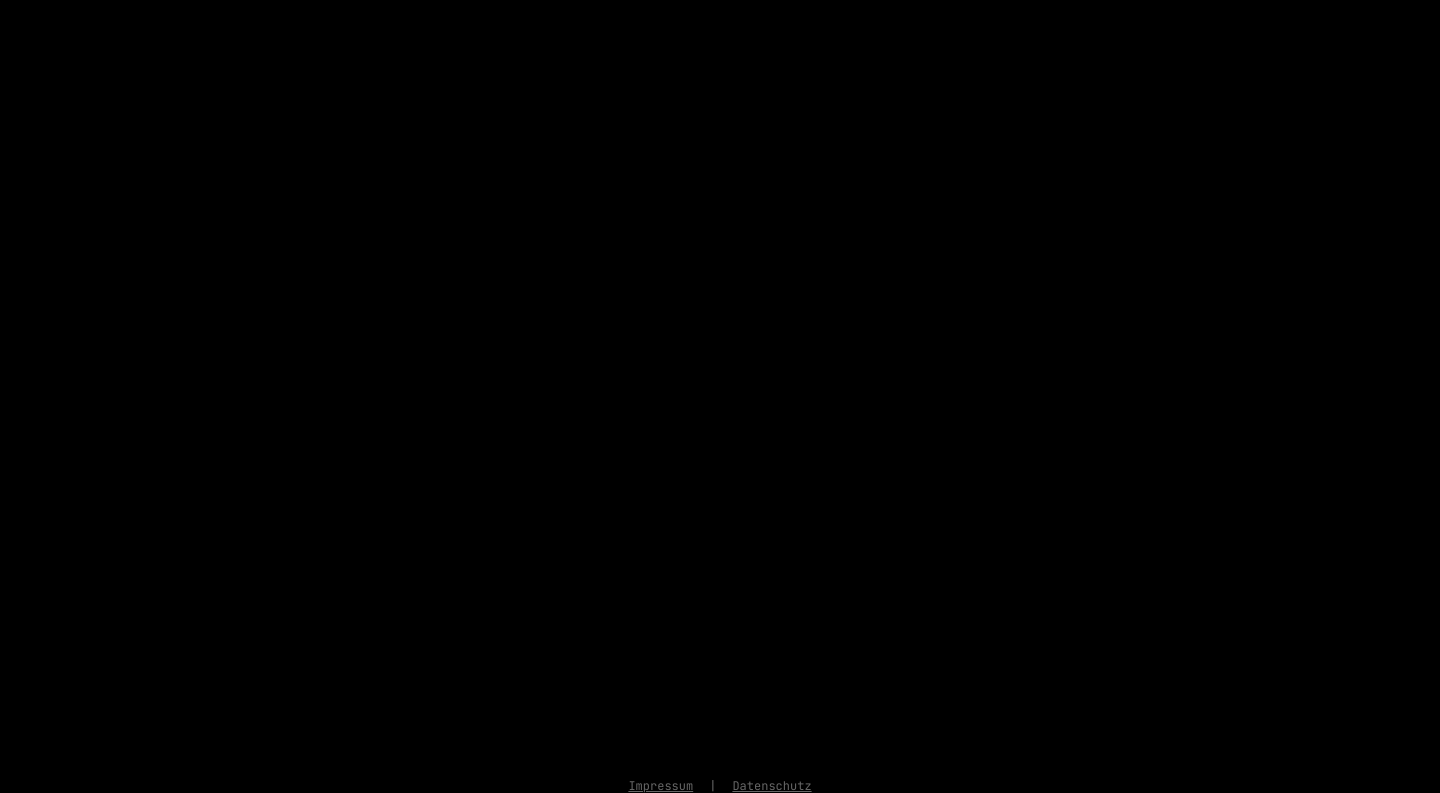
Scenario: App — central back-navigation wiring › 2. ESC on the learning hub reaches the main menu
This screenshot has width=1440, height=793.
Press Enter
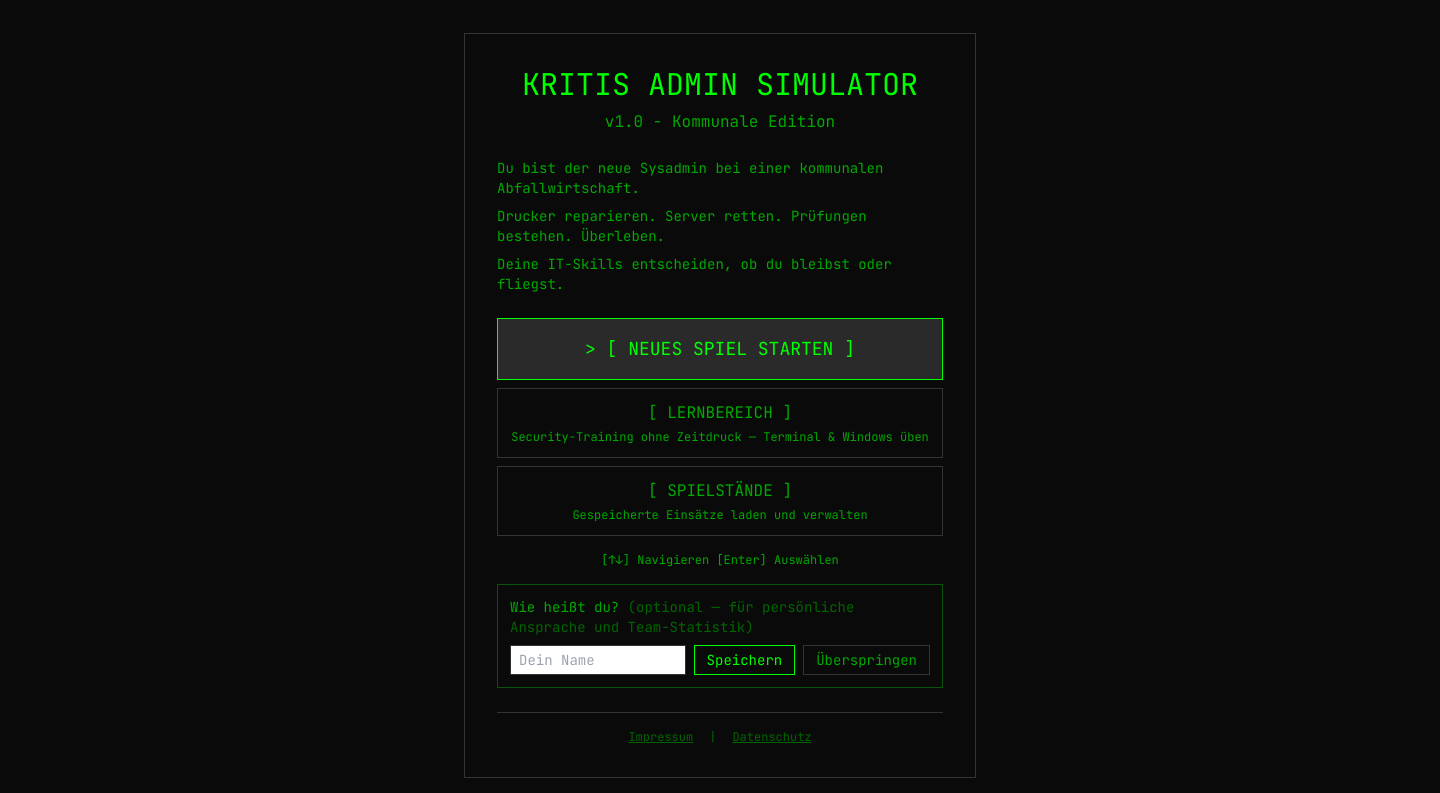
Click the button "LERNBEREICH" at (720, 422), box left=497, top=388, right=943, bottom=458
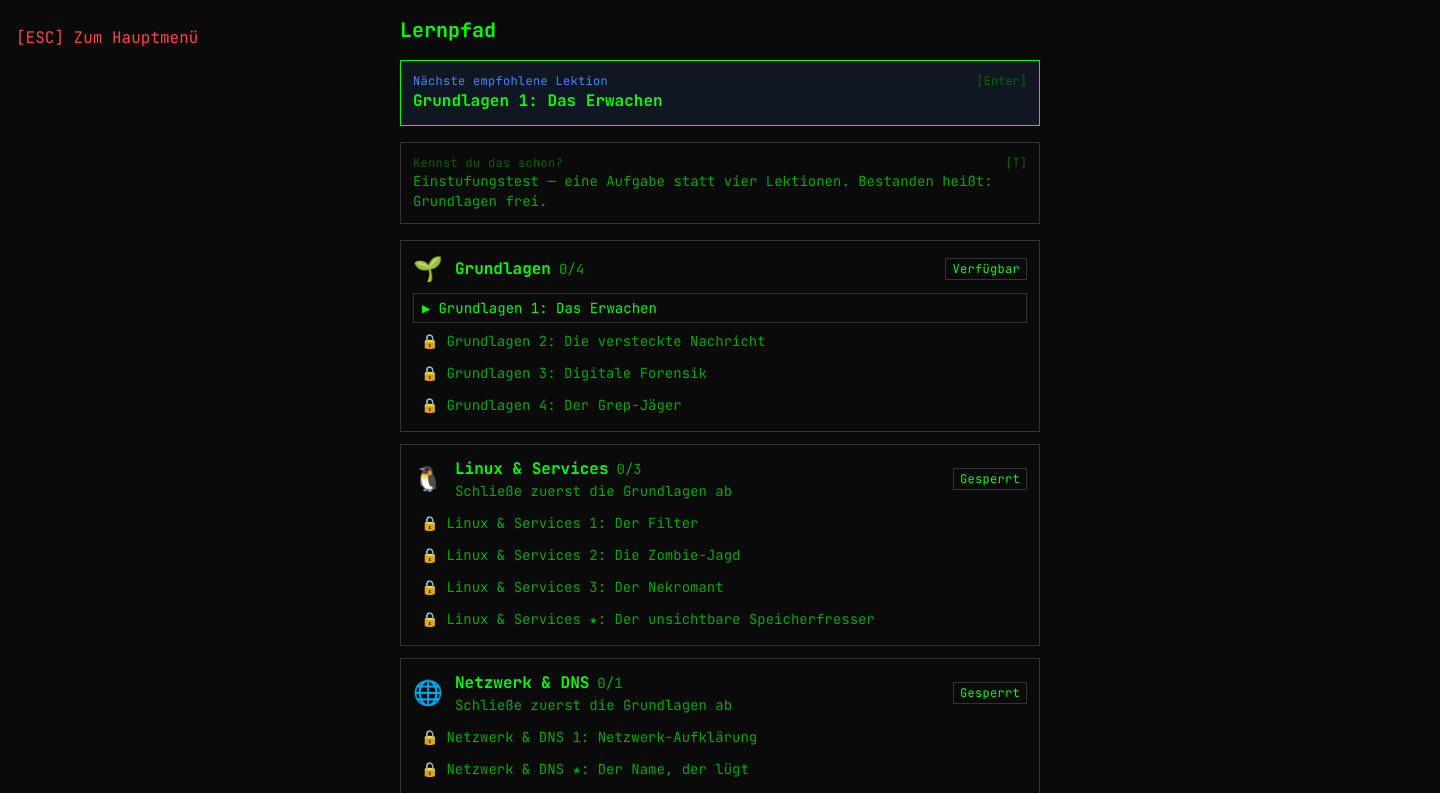
Expected: the heading "Lernpfad" is shown, left=400, top=17, right=496, bottom=43
Press Escape
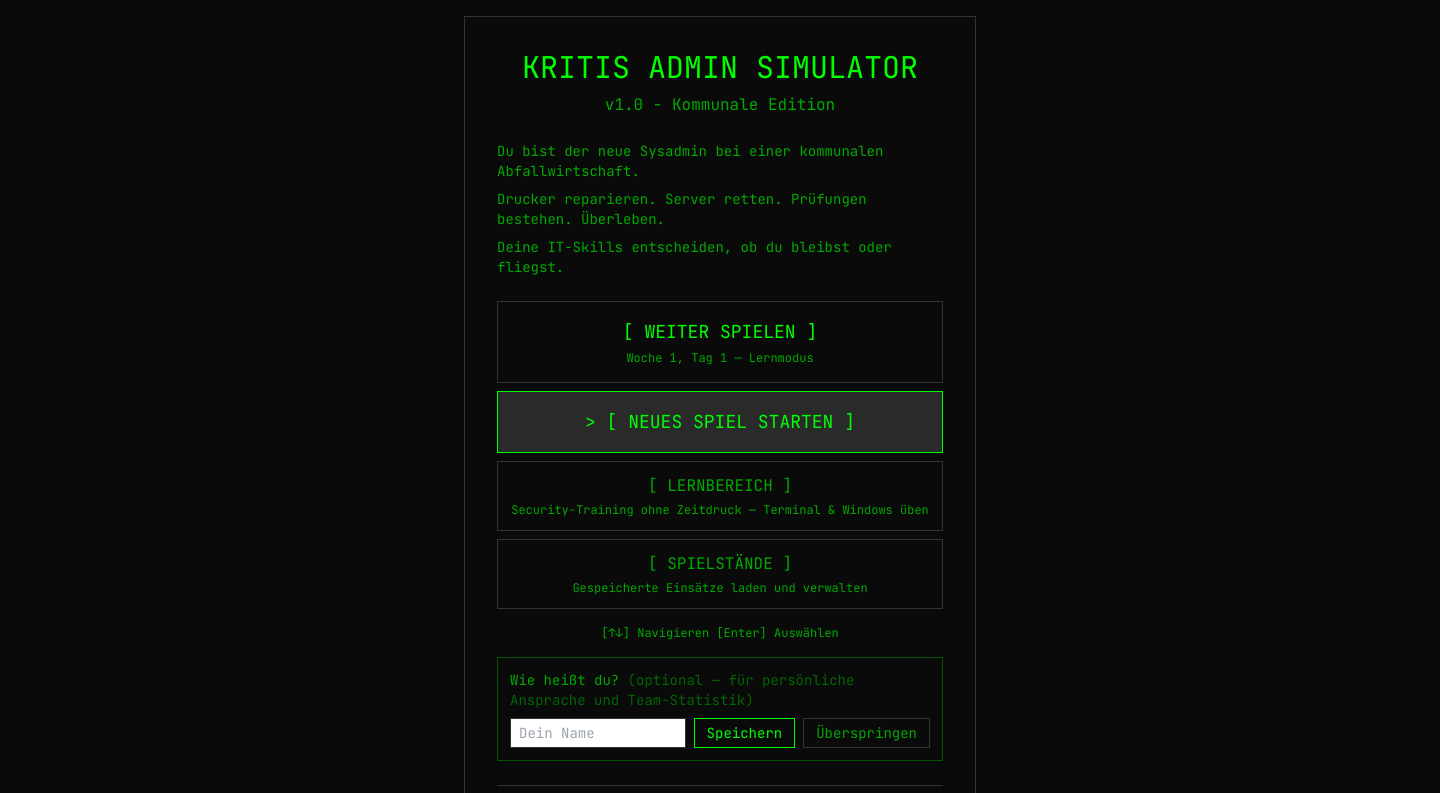
Expected: the button "> [ NEUES SPIEL STARTEN ]" is shown, left=497, top=391, right=943, bottom=453
Expected: the heading "Lernpfad" is gone
